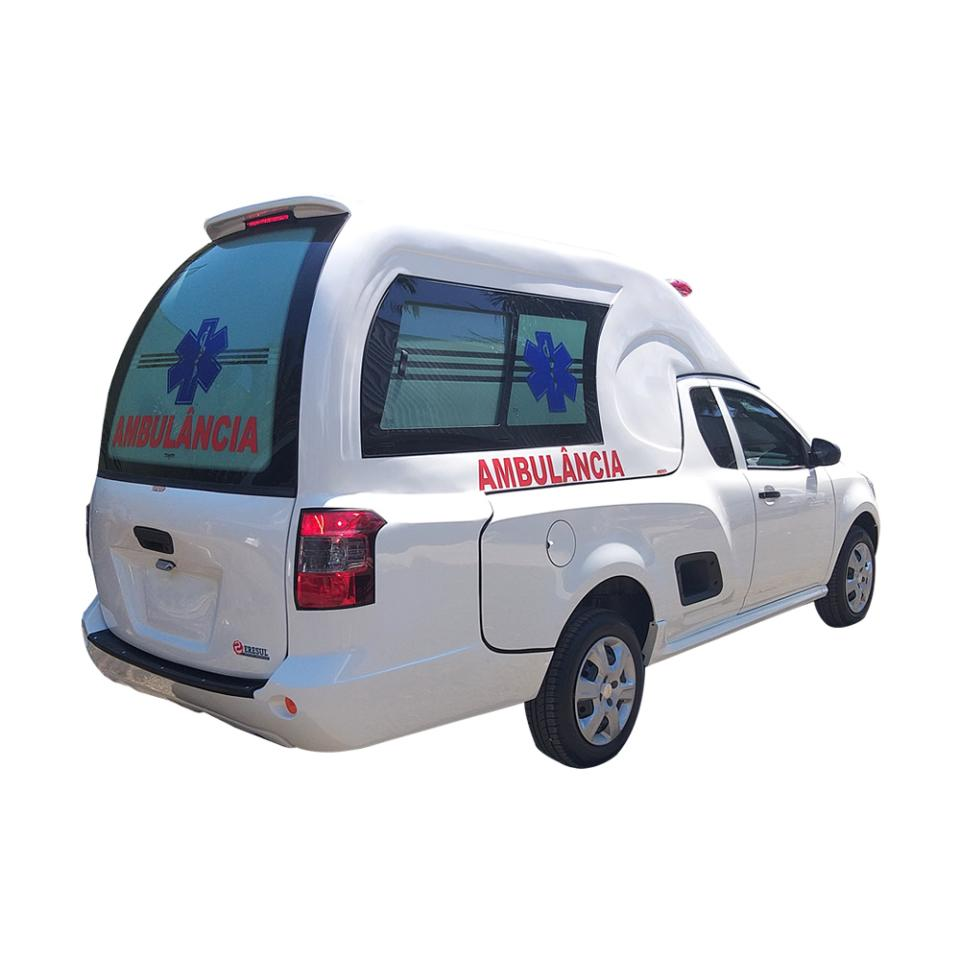bombeiro: (80, 192, 879, 771)
